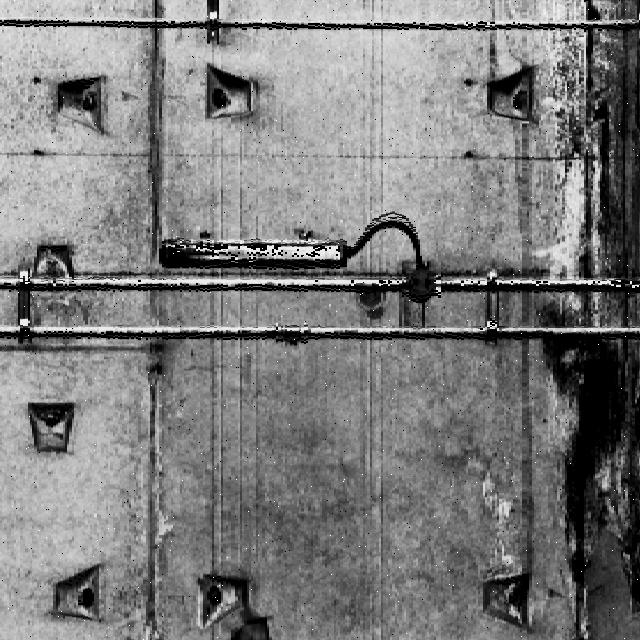leakage: (543, 1, 639, 607)
